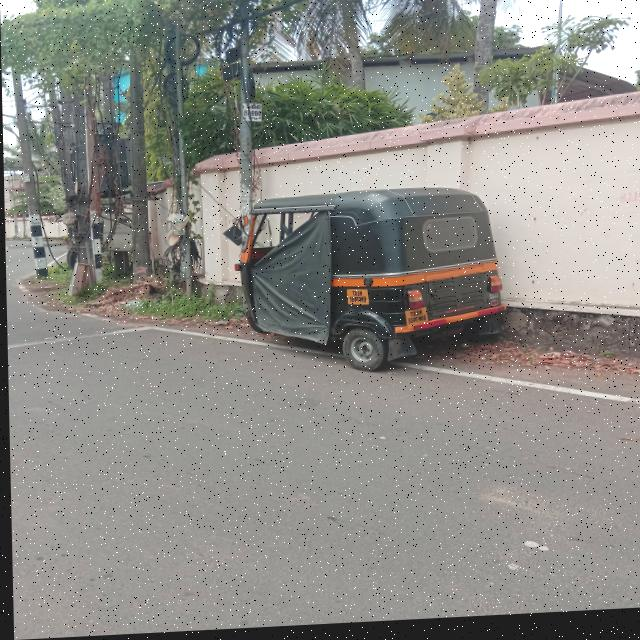plate: (404, 311, 429, 330), (346, 292, 368, 309)
